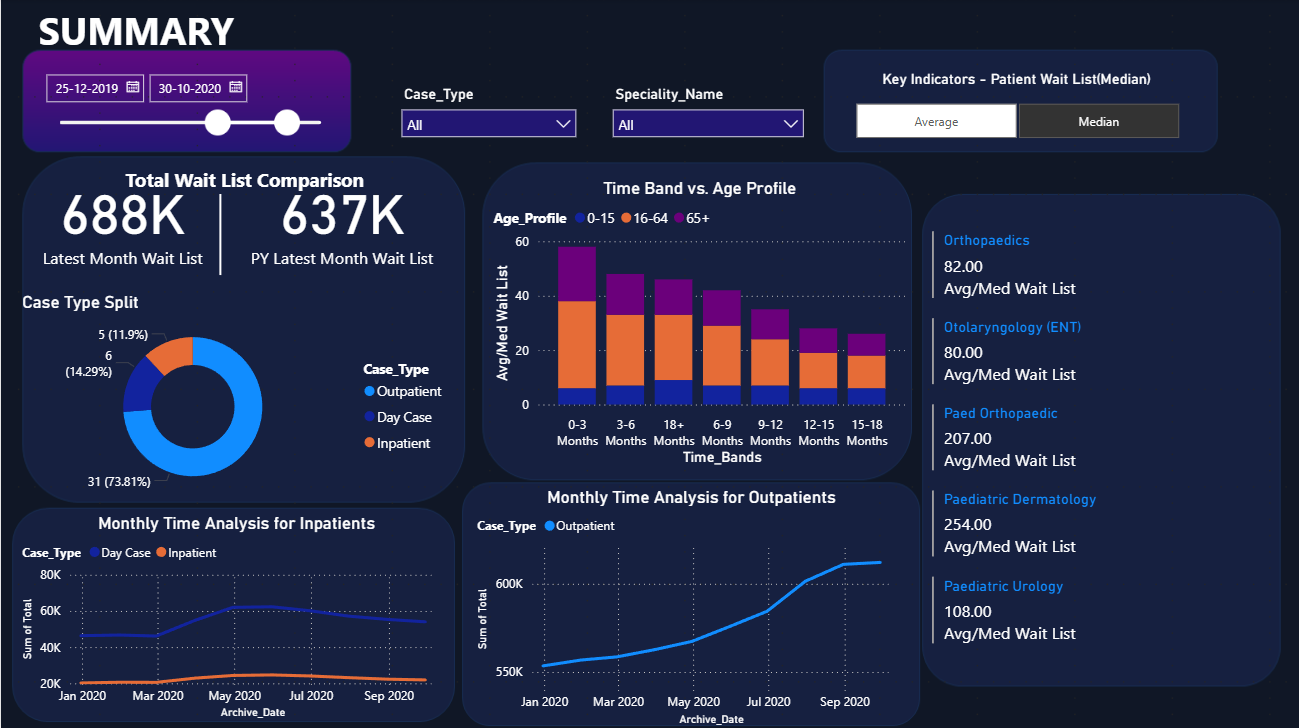

This screenshot's page, from the dashboard's own definition file:
{"tool":"powerbi","page":{"name":"Summary","canvas":[1280,720],"ordinal":0},"visuals":[{"type":"card","fields":{"Values":["All_Data.Latest Month Wait List"]},"box":[32,160,176,112],"z":0},{"type":"card","fields":{"Values":["All_Data.PY Latest Month Wait List"]},"box":[240,160,192,112],"z":1000},{"type":"slicer","fields":{"Values":["Calculation Method.Calc Method"]},"box":[816,96,368,48],"z":2000},{"type":"donutChart","title":"Case Type Split","fields":{"Category":["All_Data.Case_Type"],"Y":["All_Data.Avg/Med Wait List"]},"box":[16,288,432,208],"z":3000},{"type":"columnChart","title":"Time Band vs. Age Profile","fields":{"Y":["All_Data.Avg/Med Wait List"],"Category":["All_Data.Time_Bands"],"Series":["All_Data.Age_Profile"]},"box":[480,176,416,288],"z":4000},{"type":"multiRowCard","fields":{"Values":["All_Data.Speciality_Name","All_Data.Avg/Med Wait List"]},"box":[912,224,352,448],"z":5000},{"type":"card","fields":{"Values":["All_Data.NoDataLeft"]},"box":[160,592,240,48],"z":5500},{"type":"lineChart","title":"Monthly Time Analysis for Inpatients","fields":{"Category":["All_Data.Archive_Date"],"Y":["Sum(All_Data.Total)"],"Series":["All_Data.Case_Type"]},"box":[16,506,432,208],"z":6000},{"type":"card","fields":{"Values":["All_Data.NoDataRight"]},"box":[624,608,240,48],"z":7000},{"type":"lineChart","title":"Monthly Time Analysis for Outpatients","fields":{"Category":["All_Data.Archive_Date"],"Y":["Sum(All_Data.Total)"],"Series":["All_Data.Case_Type"]},"box":[464,480,432,240],"z":8000},{"type":"slicer","fields":{"Values":["All_Data.Archive_Date"]},"box":[32,64,304,112],"z":9000},{"type":"slicer","fields":{"Values":["All_Data.Case_Type"]},"box":[384,80,192,64],"z":10000},{"type":"slicer","fields":{"Values":["All_Data.Speciality_Name"]},"box":[592,80,208,64],"z":11000},{"type":"textbox","box":[32,0,240,64],"z":12000},{"type":"shape","box":[96,192,240,80],"z":13000},{"type":"textbox","box":[96,160,288,48],"z":14000},{"type":"card","fields":{"Values":["All_Data.Dynamic Title"]},"box":[832,64,336,32],"z":15000}]}

Visuals, with their boxes in screenshot pixels (x1, y1, x2, y2), scaled from the page's 1280x720 canvas onto the 1299x728 screenshot:
card - All_Data.Latest Month Wait List: bbox=[32, 162, 211, 275]
card - All_Data.PY Latest Month Wait List: bbox=[244, 162, 438, 275]
slicer - Calculation Method.Calc Method: bbox=[828, 97, 1202, 146]
"Case Type Split" donutChart: bbox=[16, 291, 455, 502]
"Time Band vs. Age Profile" columnChart: bbox=[487, 178, 909, 469]
multiRowCard - All_Data.Speciality_Name x All_Data.Avg/Med Wait List: bbox=[926, 226, 1283, 679]
card - All_Data.NoDataLeft: bbox=[162, 599, 406, 647]
"Monthly Time Analysis for Inpatients" lineChart: bbox=[16, 512, 455, 722]
card - All_Data.NoDataRight: bbox=[633, 615, 877, 663]
"Monthly Time Analysis for Outpatients" lineChart: bbox=[471, 485, 909, 727]
slicer - All_Data.Archive_Date: bbox=[32, 65, 341, 178]
slicer - All_Data.Case_Type: bbox=[390, 81, 585, 146]
slicer - All_Data.Speciality_Name: bbox=[601, 81, 812, 146]
textbox: bbox=[32, 0, 276, 65]
shape: bbox=[97, 194, 341, 275]
textbox: bbox=[97, 162, 390, 210]
card - All_Data.Dynamic Title: bbox=[844, 65, 1185, 97]
